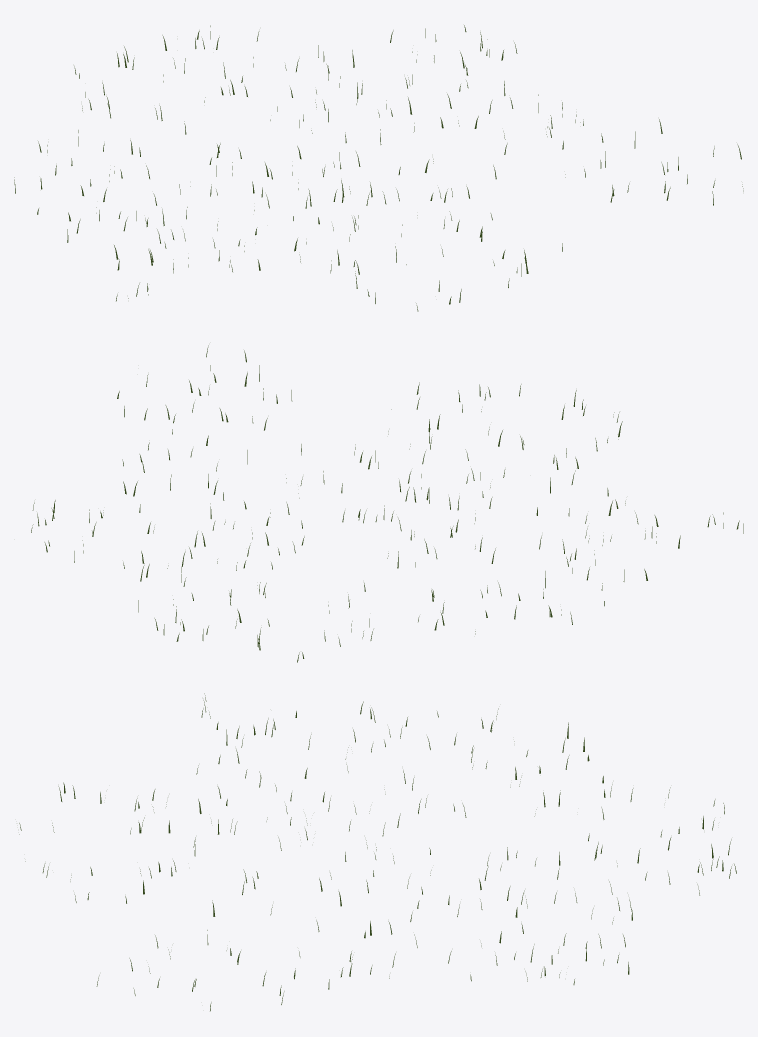
3 renders of one model, top to bottom at view 1: azimuth 30°, elevation 25°; view 2: azimuth 150°, elevation 25°; view 3: azimuth 270°, elevation 25°, orthographic. The views are drawn at different scales.
Parts seen in each view (by area): view 1: GrassPatch; view 2: GrassPatch; view 3: GrassPatch.
Boxes of the visible parts, box(x1,y1,x2,y2) form: GrassPatch: box(14, 25, 743, 311); GrassPatch: box(31, 345, 743, 662); GrassPatch: box(19, 693, 736, 1011).
Size of the model in its own units: 17.44 by 0.4916 by 16.76.
